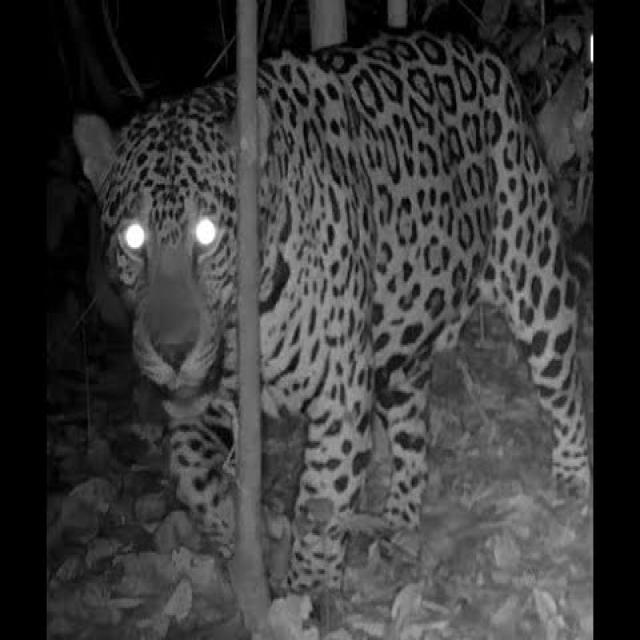Jaguar: (77, 34, 592, 553)
